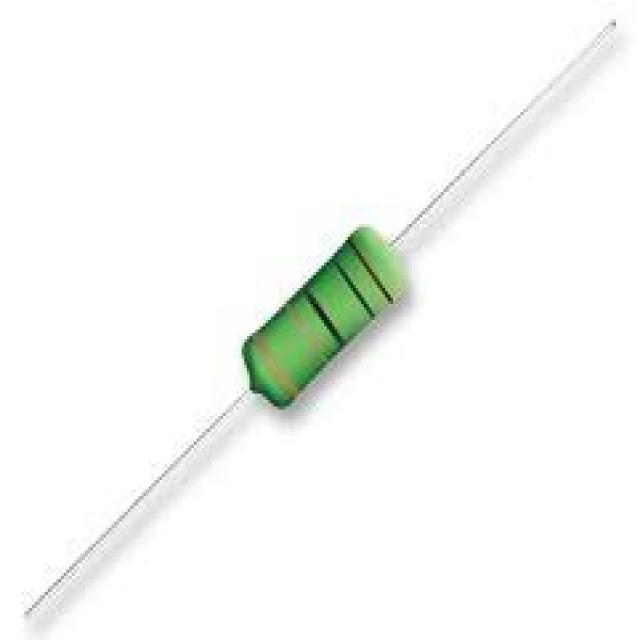Resistor: (237, 221, 412, 412)
